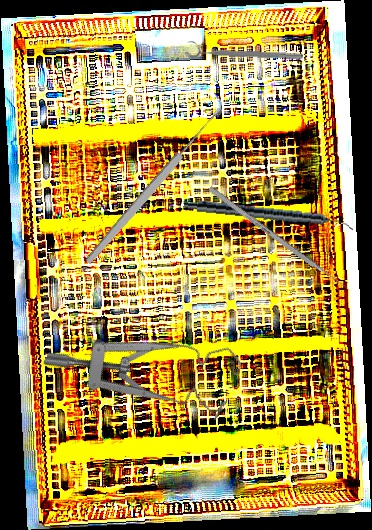Fixation Ring: (183, 39, 304, 63)
Handpiece: (182, 198, 355, 232)
Pusher: (207, 186, 354, 294)
Speculum: (41, 270, 252, 455)
Surgical Spoon: (83, 105, 225, 267)
